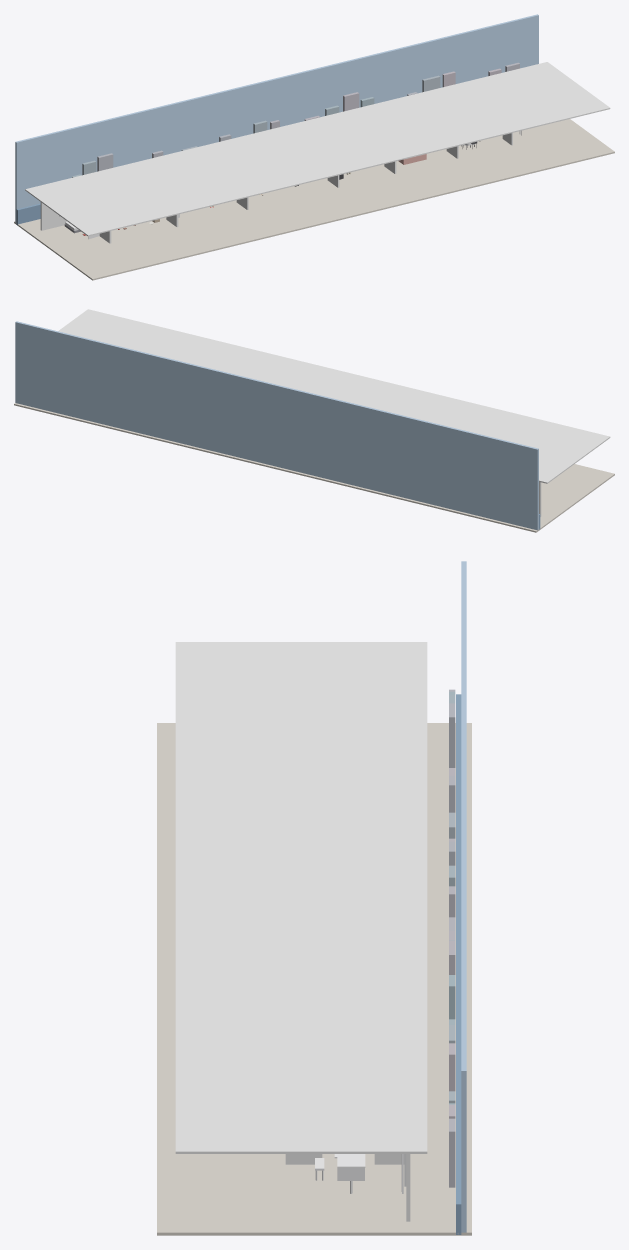
The picture shows the model from 3 angles, top to bottom: view 1: azimuth 30°, elevation 25°; view 2: azimuth 150°, elevation 25°; view 3: azimuth 270°, elevation 25°; orthographic projection. The views are drawn at different scales.
Visible parts, largest first — view 1: ceiling, backdrop_sky, floor, wall_back, backdrop_water; view 2: backdrop_sky, ceiling, floor; view 3: ceiling, floor, backdrop_sky, backdrop_water.
Boxes of the visible parts, x1,y1,x2,y2 form: ceiling: (25, 62, 610, 236); backdrop_sky: (15, 14, 538, 223); floor: (14, 119, 614, 280); wall_back: (40, 202, 59, 230); backdrop_water: (16, 203, 40, 225); backdrop_sky: (15, 321, 538, 530); ceiling: (58, 309, 610, 483); floor: (14, 403, 614, 532); ceiling: (175, 642, 427, 1153); floor: (157, 723, 471, 1235); backdrop_sky: (461, 561, 466, 1232); backdrop_water: (456, 694, 461, 1234).
Size of the model in its own units: 46 by 7.05 by 12.
